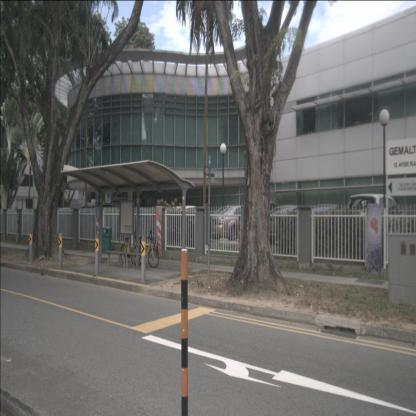vehicle-bicycle: (131, 230, 159, 268), (120, 232, 144, 266)
vehicle-car: (345, 193, 408, 249), (262, 204, 320, 245), (209, 205, 265, 242)
